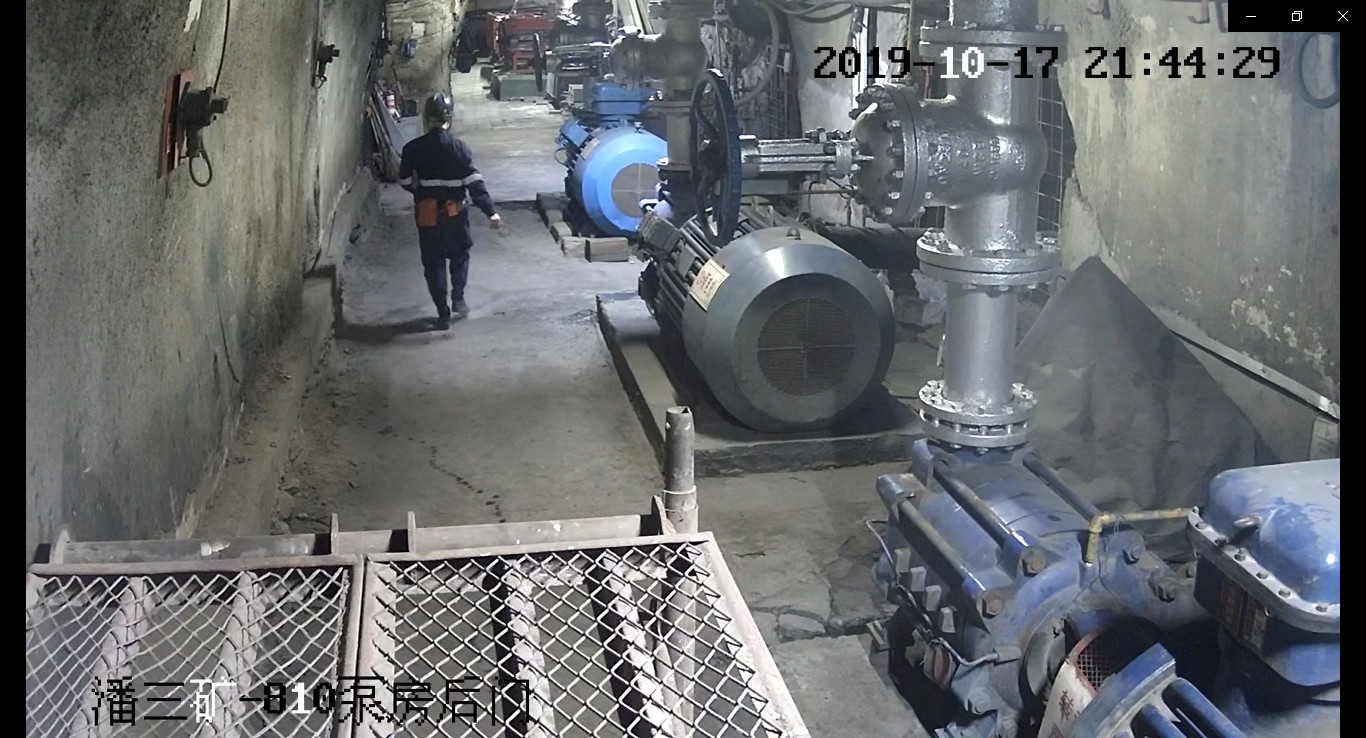helmet: (422, 91, 452, 117)
